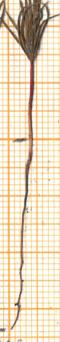flower: (0, 0, 60, 61)
root: (8, 139, 37, 332)
stem: (24, 61, 40, 139)
